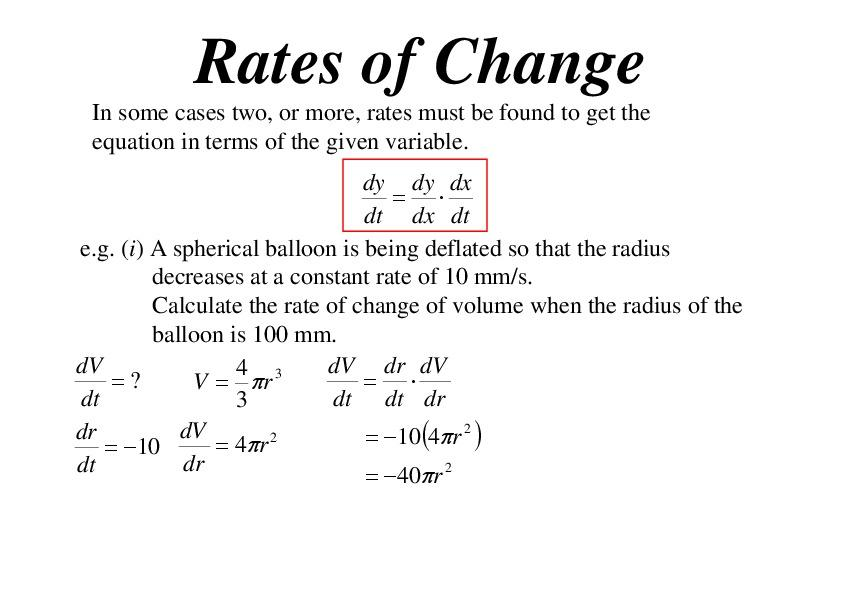paragraph: (54, 96, 785, 531)
title: (185, 21, 658, 100)
